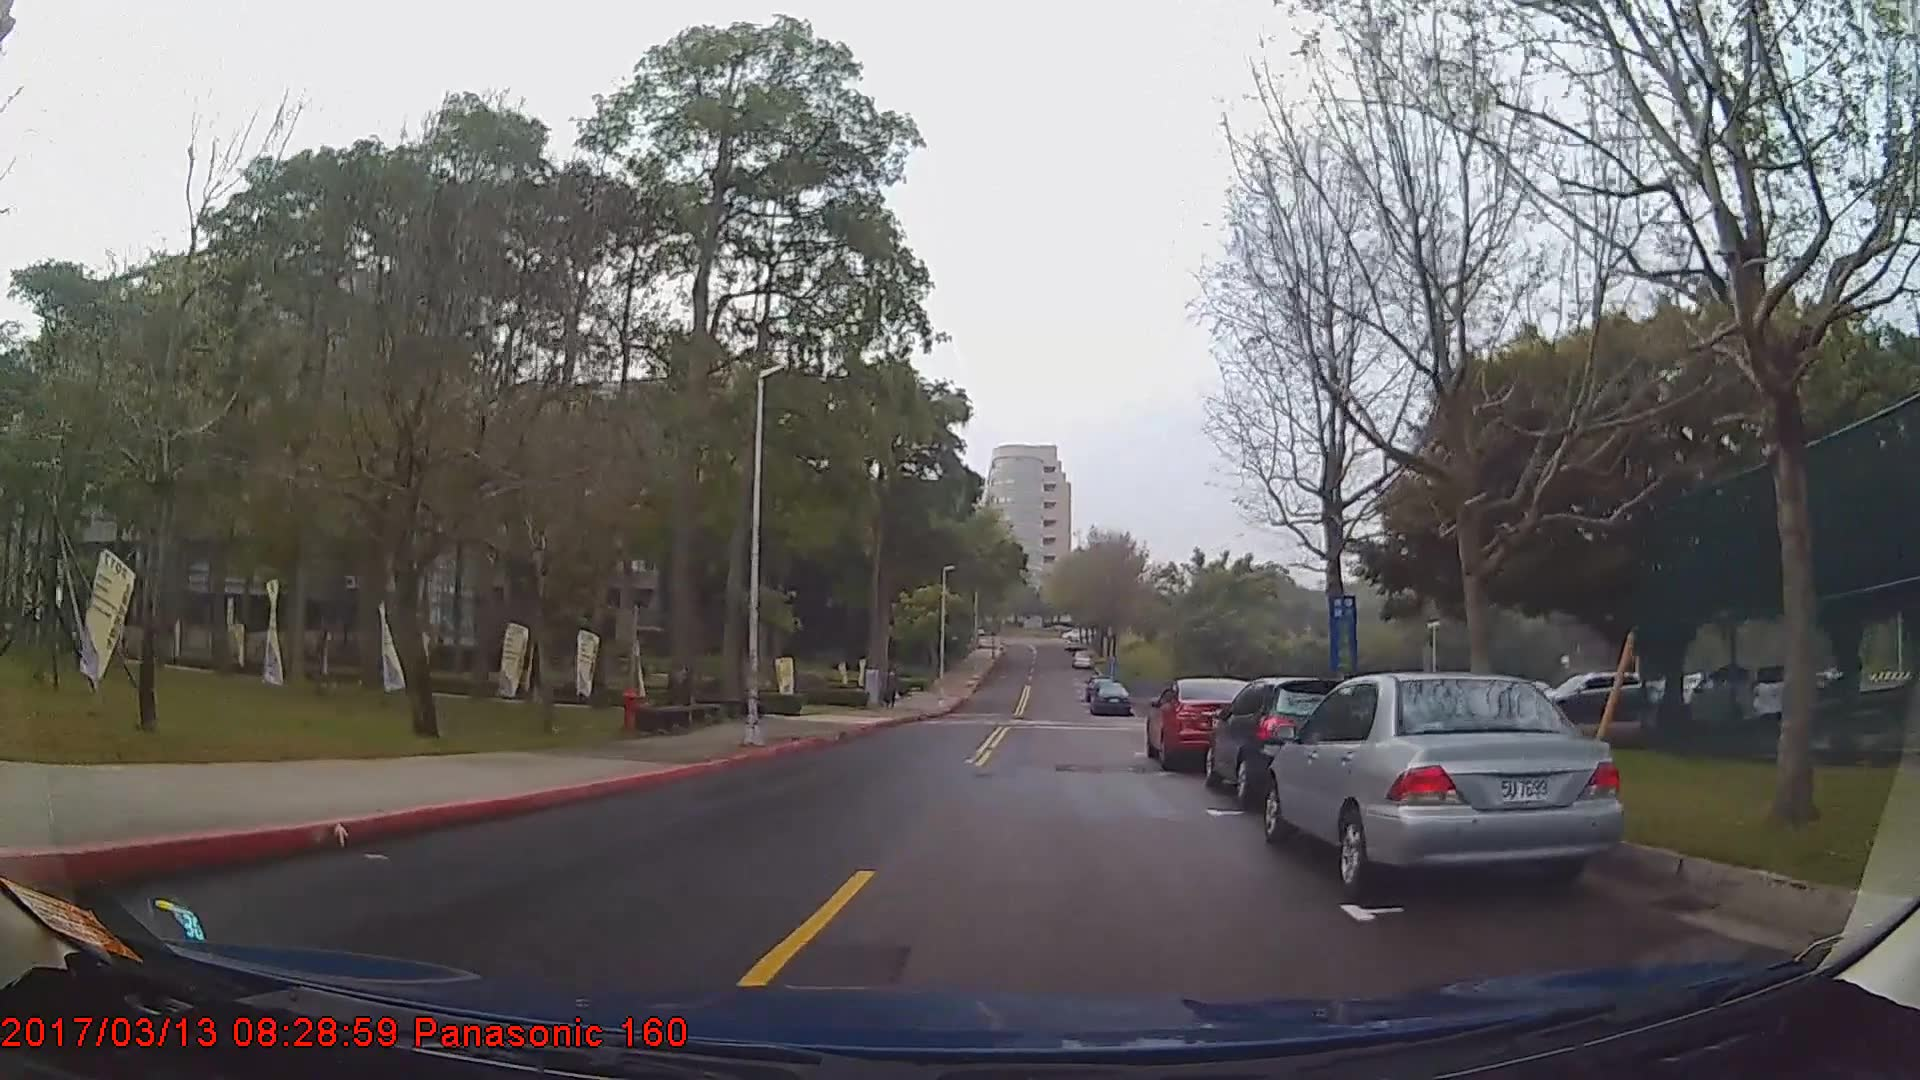vehicle: (1261, 669, 1625, 901), (1200, 676, 1371, 803), (1143, 675, 1262, 775), (1684, 662, 1791, 724), (1520, 671, 1647, 723), (1089, 678, 1130, 716)
